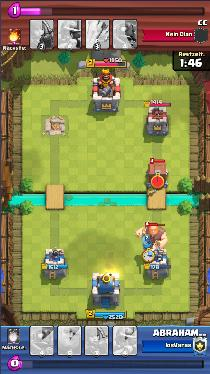ally_goblin_cage: (145, 163, 169, 189)
ally_knight: (141, 234, 153, 251)
enemy_giant: (136, 224, 168, 249)
